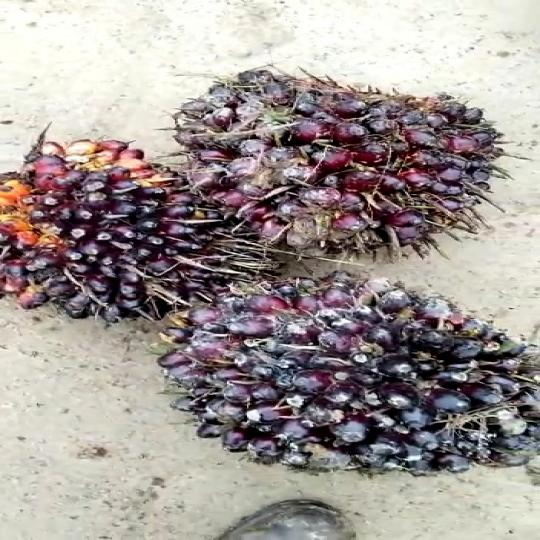kurang masak: (137, 273, 540, 483), (158, 49, 530, 262), (0, 136, 259, 323)
